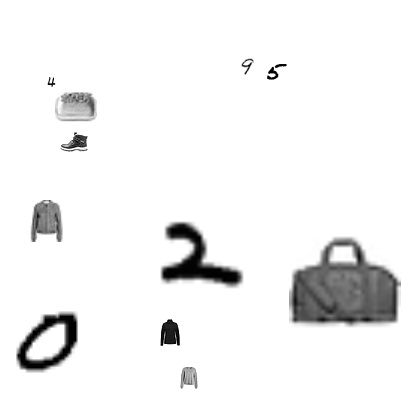0: (5, 300, 89, 384)
2: (138, 203, 250, 315)
4: (44, 75, 58, 89)
5: (261, 57, 289, 85)
9: (236, 54, 258, 76)
Ankle_boot: (60, 127, 88, 155)
Bag: (289, 226, 401, 338), (55, 85, 97, 127)
Coat: (25, 200, 67, 242), (156, 319, 184, 347)
Pullover: (178, 367, 200, 389)
